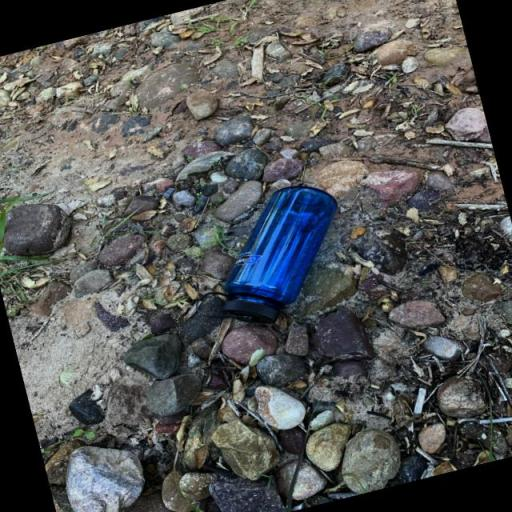bottle: (174, 176, 360, 340)
